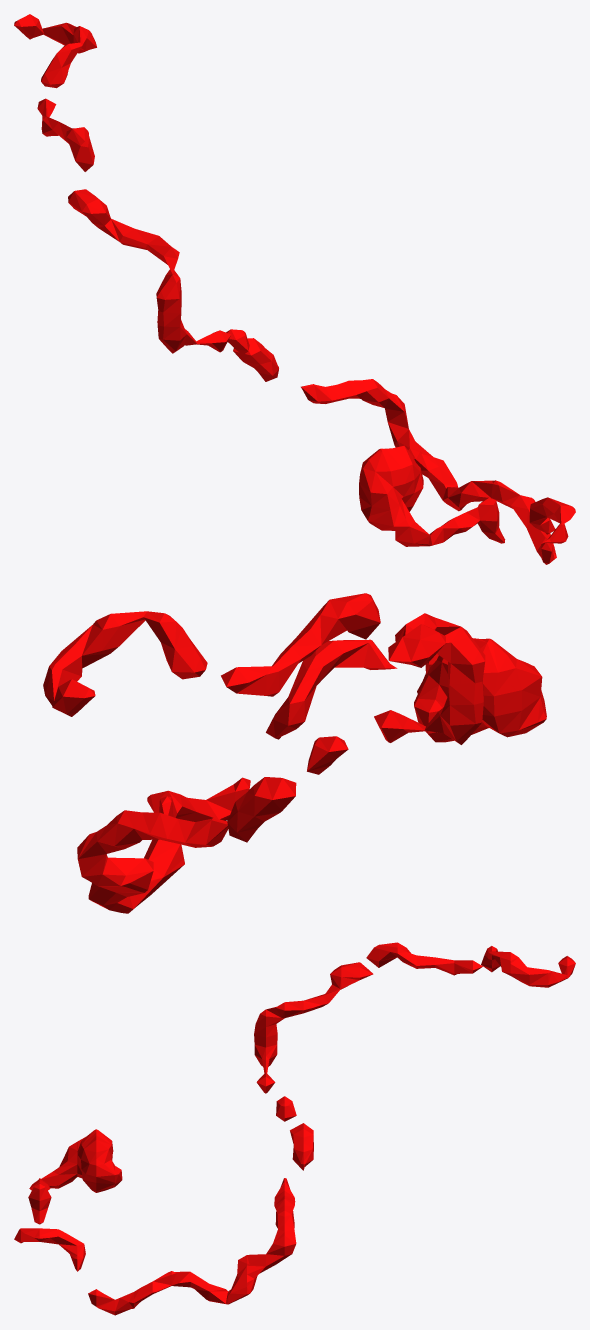
Rendered from ftsN_coarse.dae.
The picture shows the model from 3 angles, top to bottom: view 1: azimuth 30°, elevation 25°; view 2: azimuth 150°, elevation 25°; view 3: azimuth 270°, elevation 25°; orthographic projection. The views are drawn at different scales.
Visible parts, largest first — view 1: ftsN; view 2: ftsN; view 3: ftsN.
Boxes of the visible parts, x1,y1,x2,y2 form: ftsN: [14, 14, 575, 564]; ftsN: [43, 593, 546, 913]; ftsN: [14, 942, 575, 1315].
Bounding box in the file's own units: 163 × 184 × 323.
